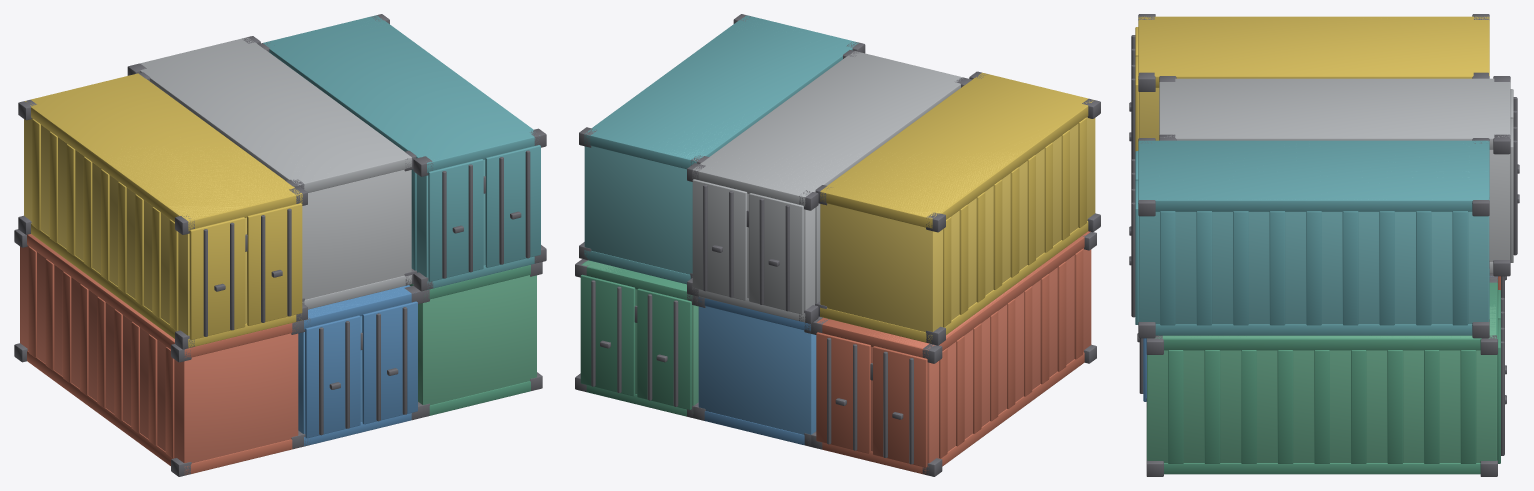
The model's file is th15_containerstapel.glb.
3 renders of one model, left to right at view 1: azimuth 30°, elevation 25°; view 2: azimuth 150°, elevation 25°; view 3: azimuth 270°, elevation 25°, orthographic. The views are drawn at different scales.
Visible parts, largest first — view 1: Cube, Cube.122, Cube.156, Cube.190, Cube.068, Cube.102, Cube.136, Cube.131, Cube.133, Cube.199, Cube.063, Cube.065 (+33 smaller); view 2: Cube.102, Cube.122, Cube.190, Cube.156, Cube.034, Cube.170, Cube, Cube.099, Cube.167, Cube.029, Cube.031, Cube.165 (+34 smaller); view 3: Cube.068, Cube.190, Cube.170, Cube.122, Cube.156, Cube.088, Cube.189, Cube.087, Cube.136, Cube.183, Cube.185, Cube.181 (+22 smaller).
Part boxes in pixels (<box>): Cube: <box>20,245,298,463</box>; Cube.122: <box>25,73,302,231</box>; Cube.156: <box>140,37,411,192</box>; Cube.190: <box>263,15,539,172</box>; Cube.068: <box>418,275,536,405</box>; Cube.102: <box>24,118,293,335</box>; Cube.136: <box>302,169,411,299</box>; Cube.131: <box>189,217,245,339</box>; Cube.133: <box>247,203,302,325</box>; Cube.199: <box>428,159,483,281</box>; Cube.063: <box>305,315,360,438</box>; Cube.065: <box>362,301,417,424</box>; Cube.102: <box>820,117,1094,332</box>; Cube.122: <box>820,72,1093,228</box>; Cube.190: <box>584,15,858,169</box>; Cube.156: <box>692,51,962,206</box>; Cube.034: <box>698,306,816,434</box>; Cube.170: <box>584,18,803,274</box>; Cube: <box>862,248,1091,463</box>; Cube.099: <box>580,274,635,396</box>; Cube.167: <box>692,179,747,300</box>; Cube.029: <box>873,346,927,467</box>; Cube.031: <box>816,332,870,453</box>; Cube.165: <box>749,193,803,314</box>; Cube.068: <box>1147,300,1497,462</box>; Cube.190: <box>1138,140,1489,211</box>; Cube.170: <box>1139,141,1489,324</box>; Cube.122: <box>1138,16,1489,87</box>; Cube.156: <box>1159,78,1510,149</box>; Cube.088: <box>1147,280,1497,350</box>; Cube.189: <box>1155,269,1489,335</box>; Cube.087: <box>1146,408,1480,474</box>; Cube.136: <box>1489,149,1509,262</box>; Cube.183: <box>1269,211,1285,325</box>; Cube.185: <box>1342,211,1358,325</box>; Cube.181: <box>1196,211,1212,325</box>.
Size of the model in its own units: 7.76 by 5.24 by 6.76.
